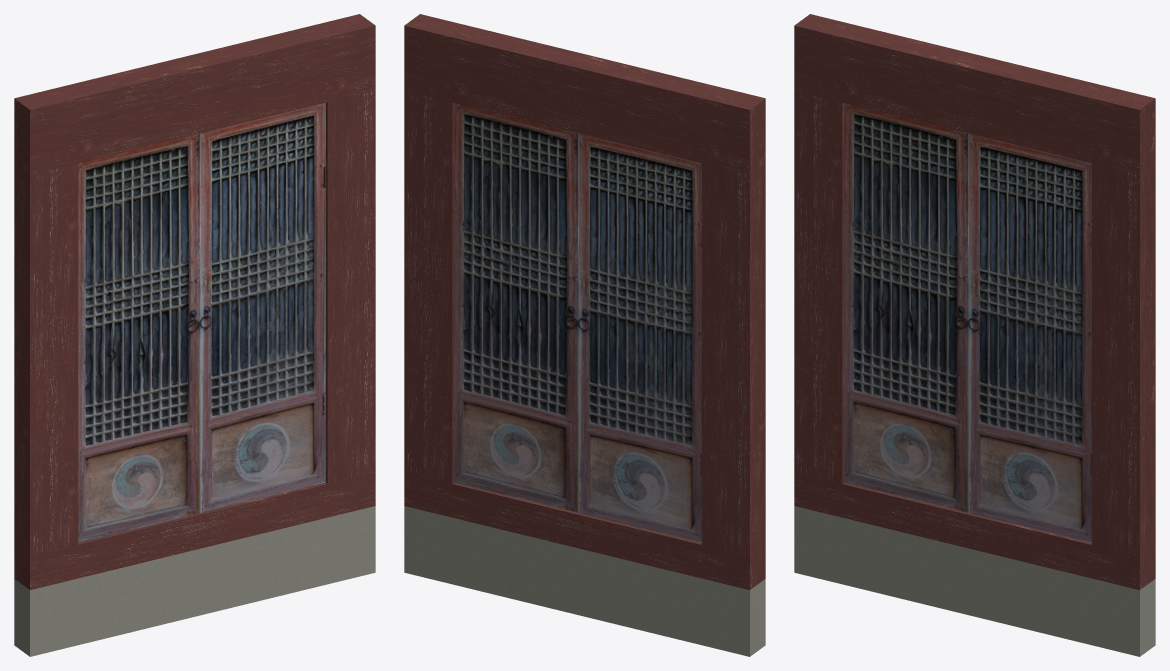
Rendered from SM_Sun_Won_Wall_B.fbx.
3 renders of one model, left to right at view 1: azimuth 30°, elevation 25°; view 2: azimuth 150°, elevation 25°; view 3: azimuth 330°, elevation 25°, orthographic.
Visible parts, largest first — view 1: SM_Sun_Won_Wall_B; view 2: SM_Sun_Won_Wall_B; view 3: SM_Sun_Won_Wall_B.
Part boxes in pixels (x1,y1,x2,y2): SM_Sun_Won_Wall_B: (14,14,375,656); SM_Sun_Won_Wall_B: (404,14,765,656); SM_Sun_Won_Wall_B: (794,14,1155,656).
Bounding box in the file's own units: 187 × 283 × 15.
